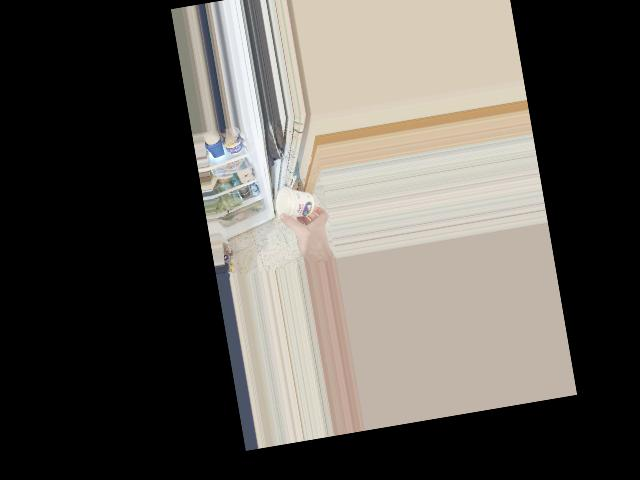cotage: (281, 181, 316, 223)
